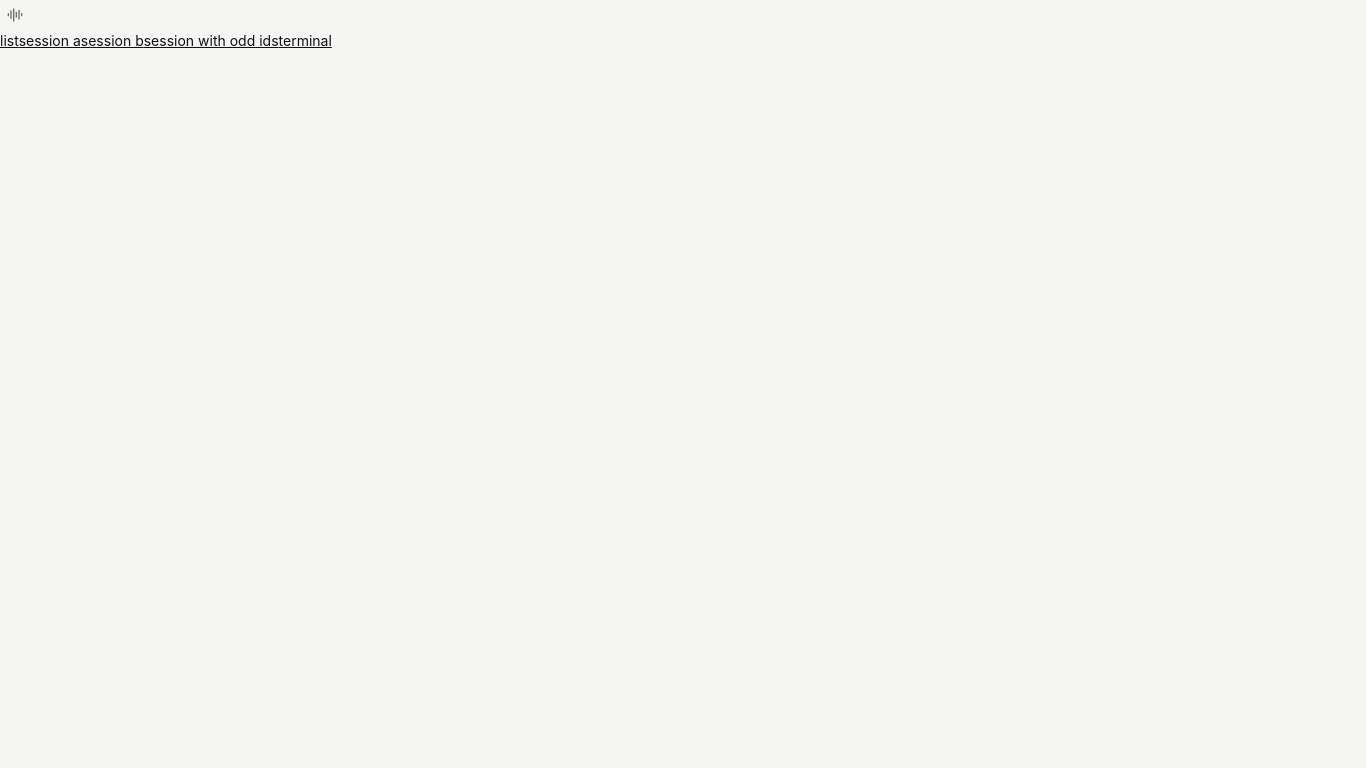
Test: which session is on screen › says nowhere in particular right after ready, from a page that is not a session
The width and height of the screenshot is (1366, 768).
What coordinates should you click on to do the following:
click the button named "Voice assistant"
I would click on:
 (15, 15)
Its box is 0,0 -> 30,30.
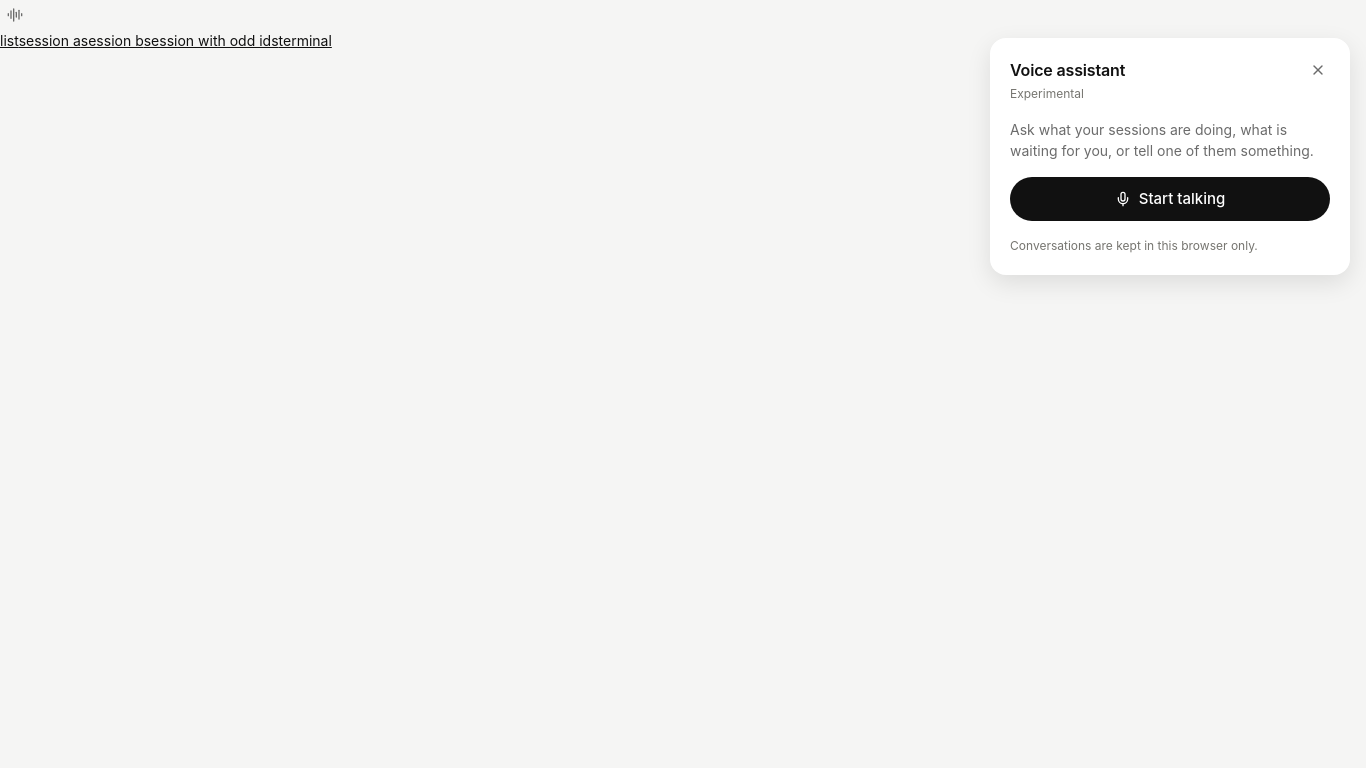
What coordinates should you click on to do the following:
click the button "Start talking"
I would click on:
 (1170, 199)
Its box is 1010,177 -> 1330,221.
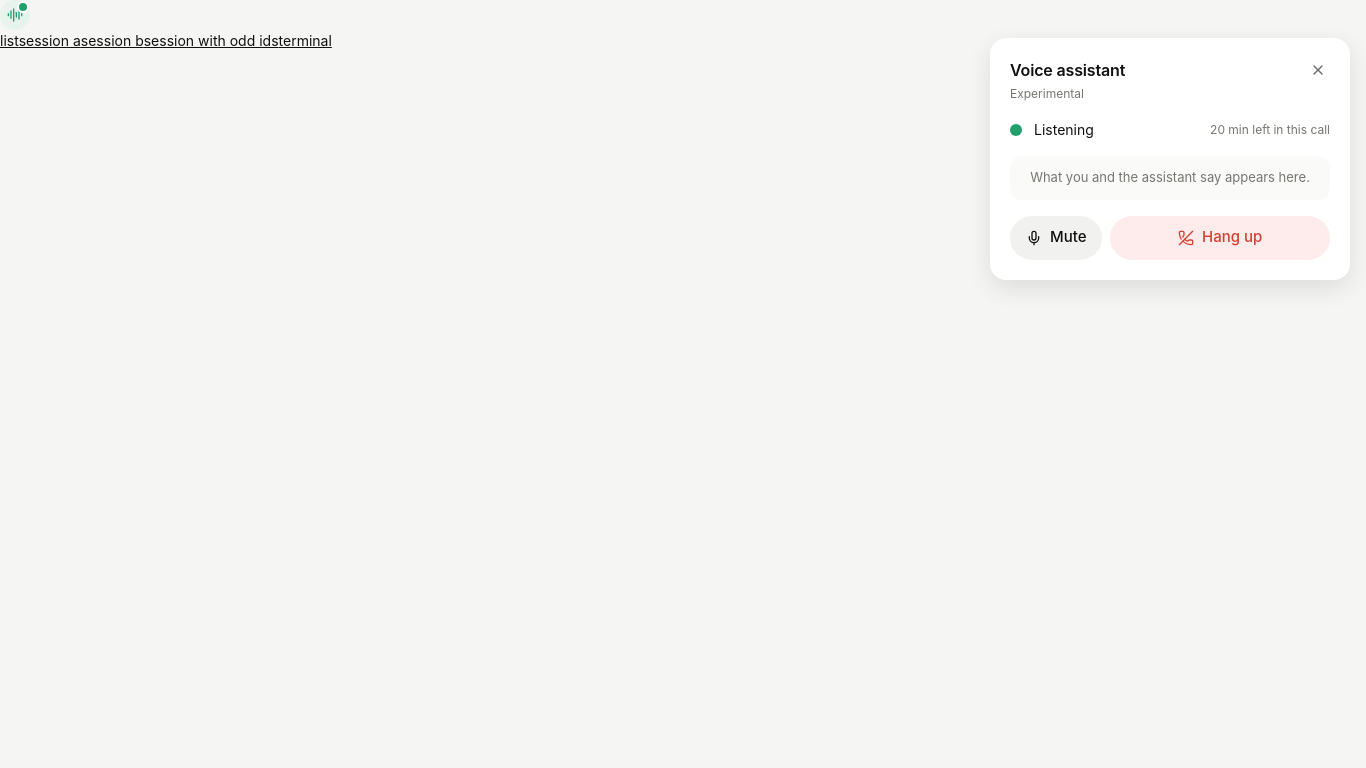
Expected: the button "Hang up" is shown, 1110,216 -> 1330,260
